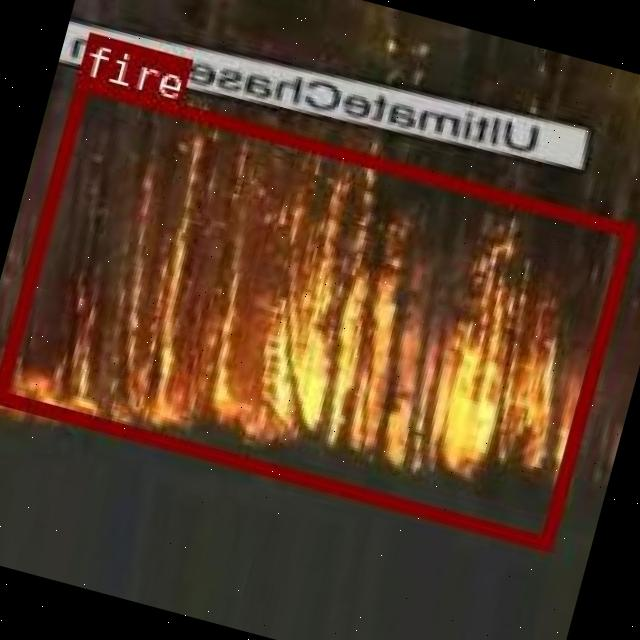fire: (0, 75, 635, 547)
